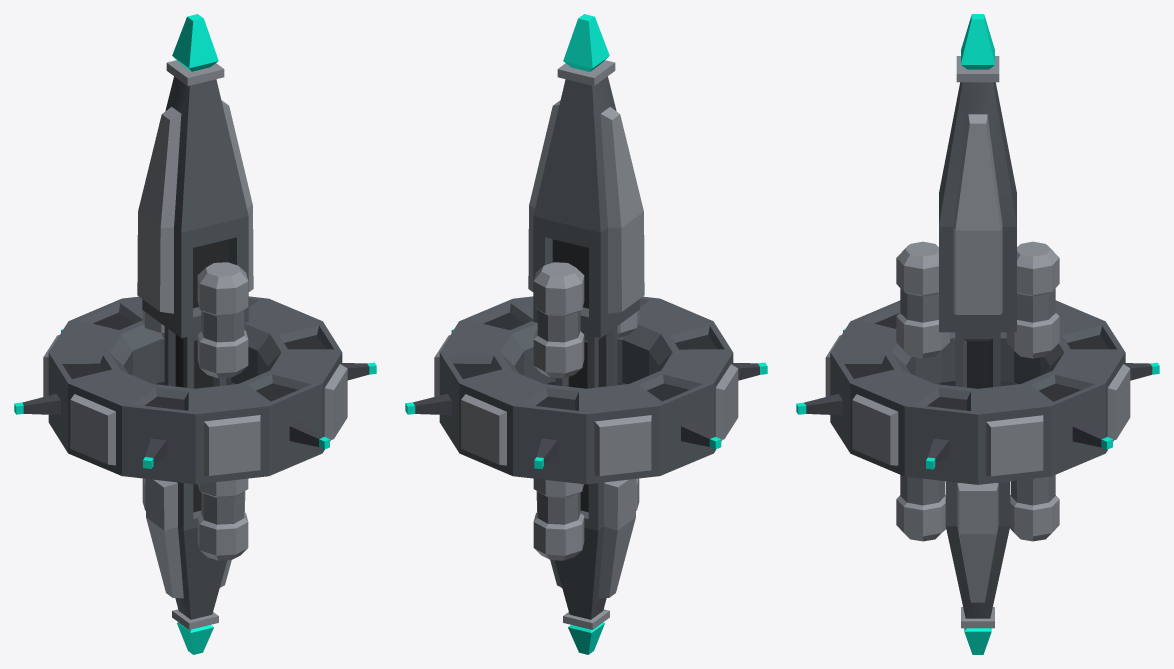
File: Beacon_Spawner.fbx
3 views of the same model, side by side, from view 1: azimuth 30°, elevation 25°; view 2: azimuth 150°, elevation 25°; view 3: azimuth 270°, elevation 25° (orthographic).
Visible parts, largest first — view 1: Beacon_Spawner; view 2: Beacon_Spawner; view 3: Beacon_Spawner.
Part boxes in pixels (<box>): Beacon_Spawner: <box>14,14,376,654</box>; Beacon_Spawner: <box>405,14,767,654</box>; Beacon_Spawner: <box>796,14,1159,654</box>.
Bounding box in the file's own units: 1.84 × 3.55 × 1.84.
